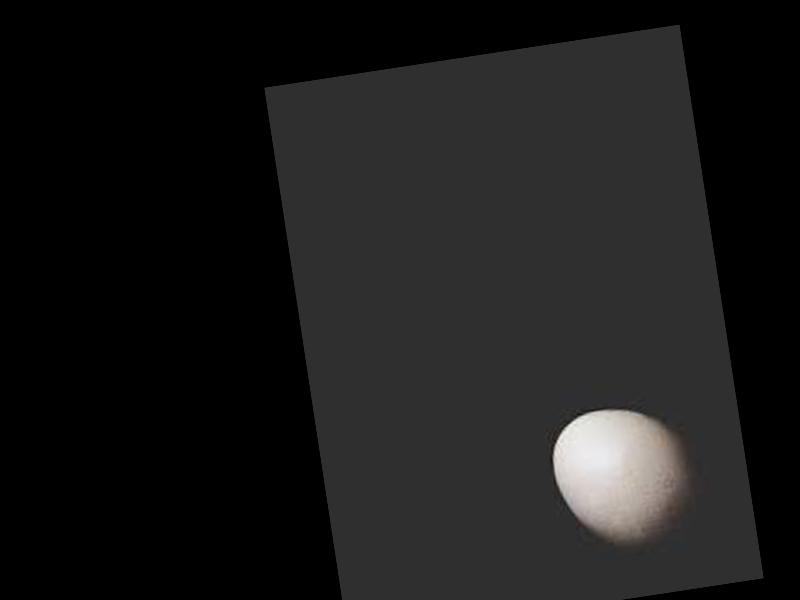Eggs: (545, 398, 703, 560)
